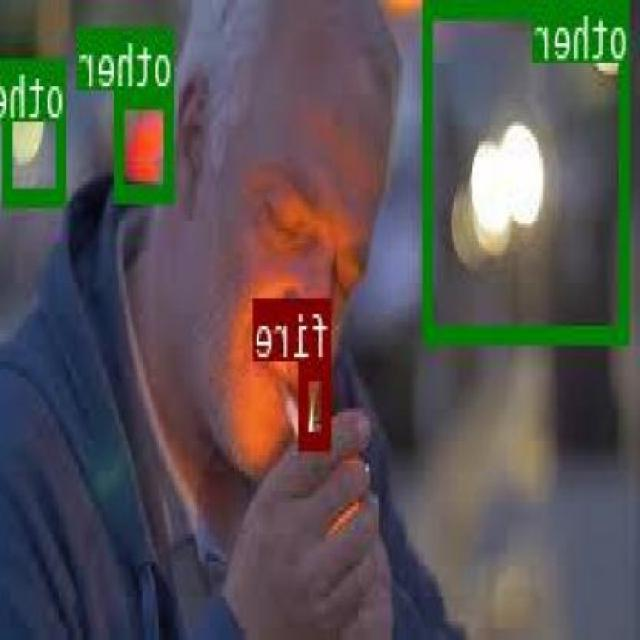fire: (300, 358, 332, 446)
other: (424, 0, 632, 342), (5, 56, 67, 201), (116, 89, 174, 200)
